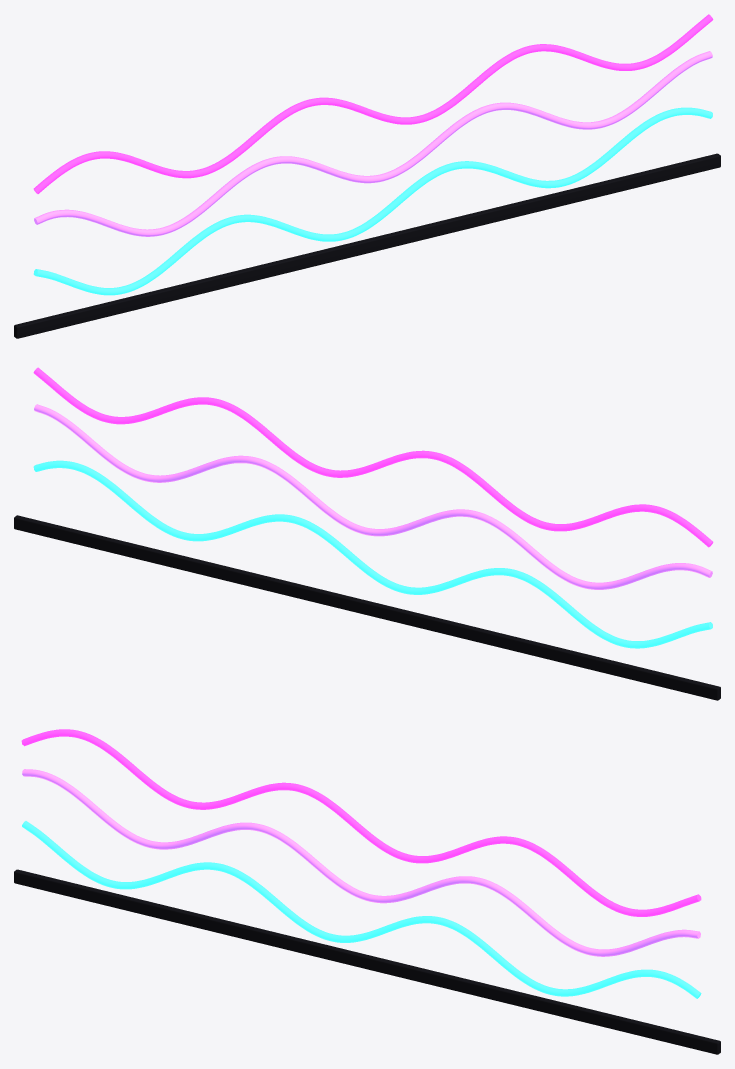
File: klub_neon_fale.glb
The picture shows the model from 3 angles, top to bottom: view 1: azimuth 30°, elevation 25°; view 2: azimuth 150°, elevation 25°; view 3: azimuth 330°, elevation 25°; orthographic projection.
Parts seen in each view (by area): view 1: Listwa, Swiatlo0, Swiatlo1, Swiatlo2; view 2: Listwa, Swiatlo0, Swiatlo1, Swiatlo2; view 3: Listwa, Swiatlo2, Swiatlo1, Swiatlo0.
Boxes of the visible parts, left/top/right/bottom form: Listwa: left=14, top=153, right=720, bottom=338; Swiatlo0: left=33, top=14, right=713, bottom=193; Swiatlo1: left=34, top=51, right=712, bottom=236; Swiatlo2: left=33, top=107, right=712, bottom=295; Listwa: left=14, top=515, right=720, bottom=700; Swiatlo0: left=33, top=367, right=713, bottom=547; Swiatlo1: left=34, top=404, right=712, bottom=589; Swiatlo2: left=33, top=460, right=712, bottom=648; Listwa: left=14, top=869, right=720, bottom=1054; Swiatlo2: left=22, top=821, right=701, bottom=998; Swiatlo1: left=22, top=769, right=700, bottom=956; Swiatlo0: left=21, top=729, right=701, bottom=916.
Bounding box in the file's own units: 2.4 × 0.5597 × 0.056.
